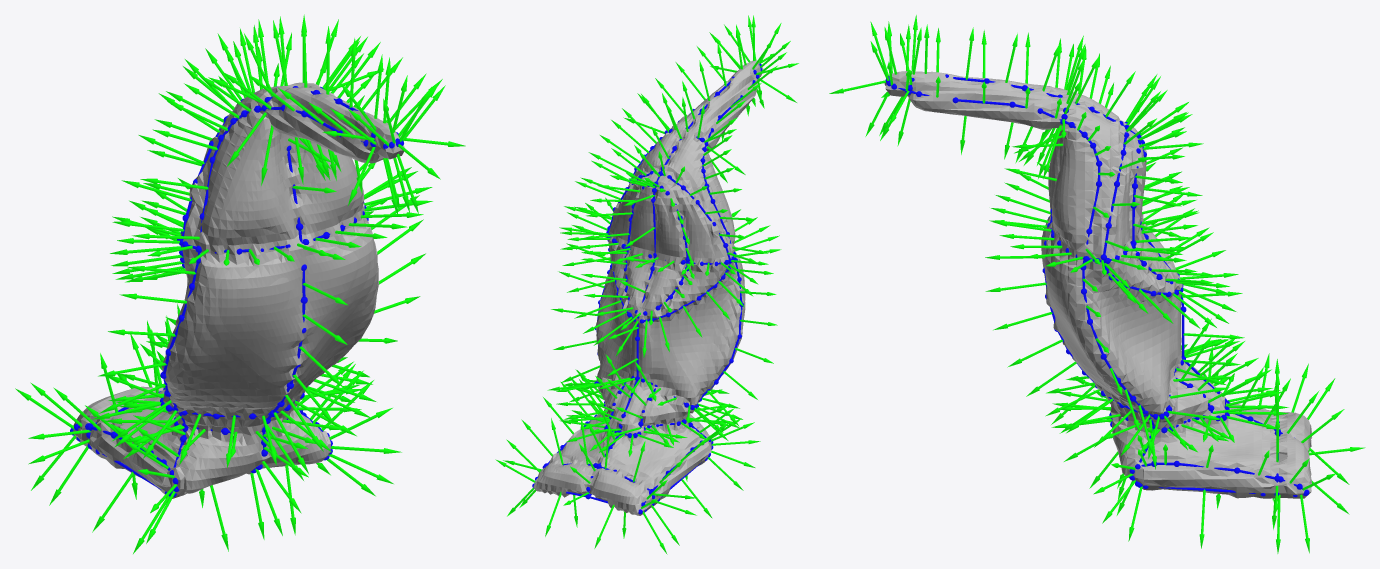
File: t2f_vacuum.gltf
The picture shows the model from 3 angles, left to right: view 1: azimuth 30°, elevation 25°; view 2: azimuth 150°, elevation 25°; view 3: azimuth 270°, elevation 25°; orthographic projection. The views are drawn at different scales.
Size of the model in its own units: 0.5045 by 0.8708 by 0.8559.
